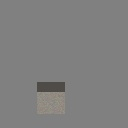supply_truck: (37, 82, 65, 114)
